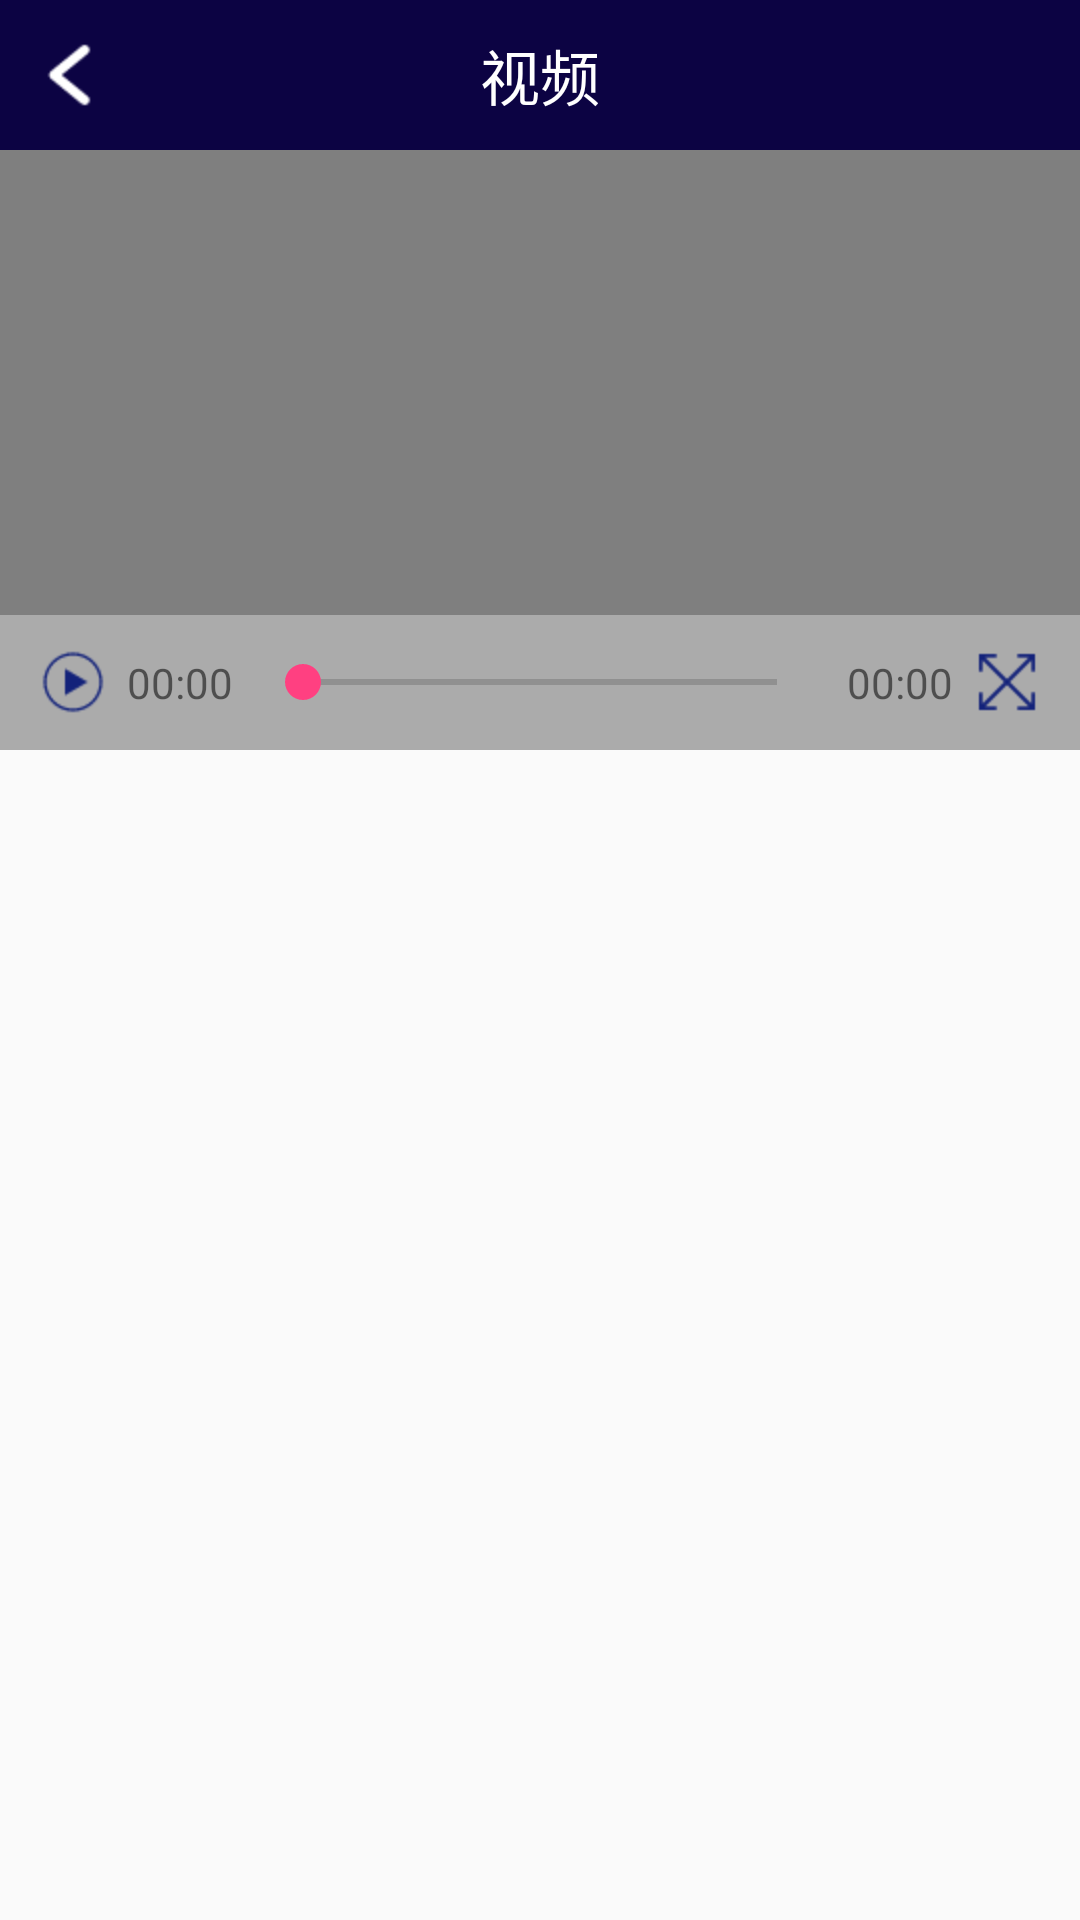

Screen size 1080×1920. Icon name, then its box in pixels as (x1, y1, x2, y2):
back: (48, 44, 91, 106)
